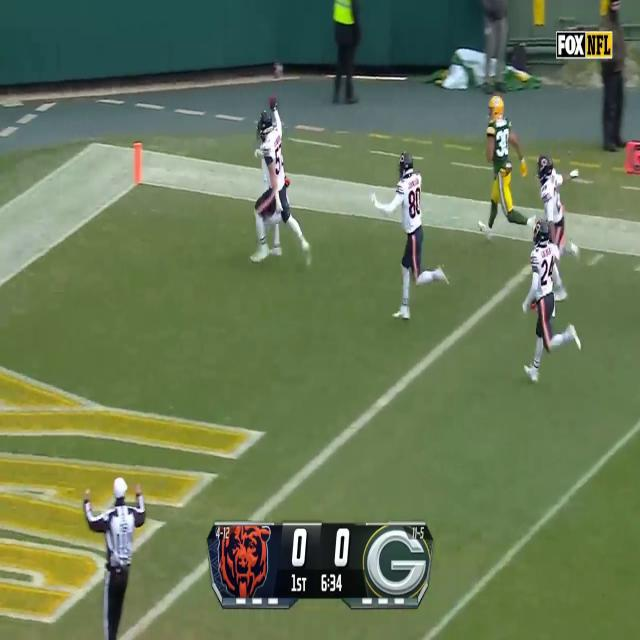Player: (253, 100, 292, 275), (523, 220, 557, 387), (484, 90, 520, 242), (396, 150, 426, 324), (533, 155, 565, 250)
Referee: (94, 476, 138, 640)
